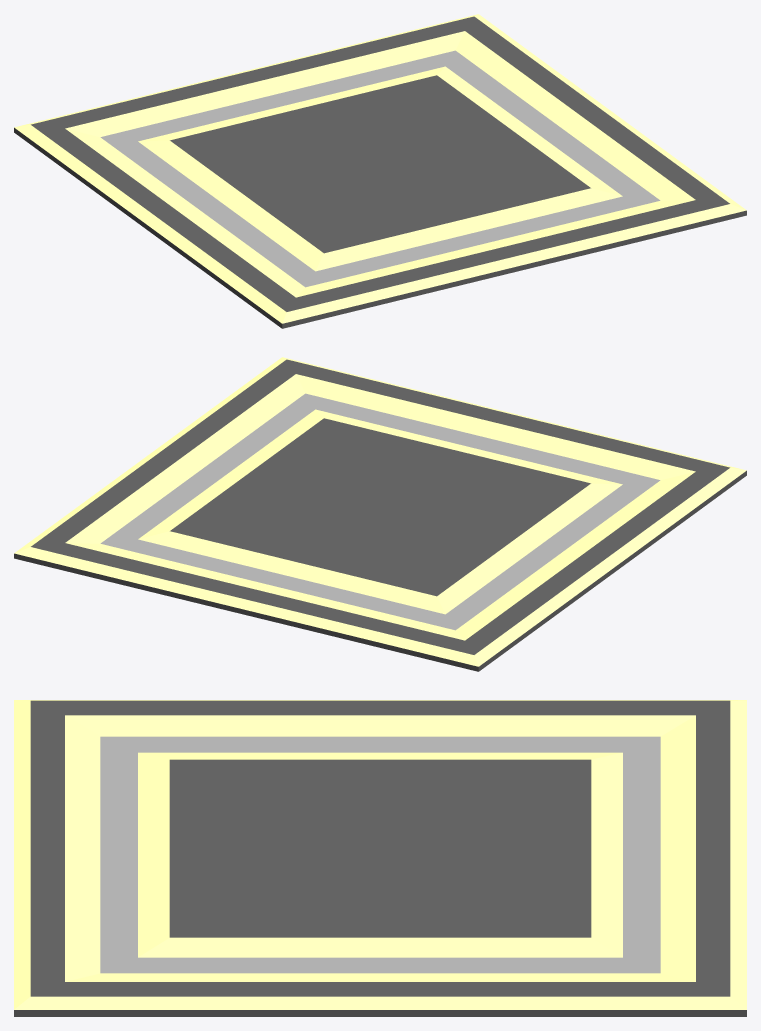
Rendered from floorsquarelight.fbx.
3 renders of one model, top to bottom at view 1: azimuth 30°, elevation 25°; view 2: azimuth 150°, elevation 25°; view 3: azimuth 270°, elevation 25°, orthographic. The views are drawn at different scales.
Parts seen in each view (by area): view 1: Cube.006; view 2: Cube.006; view 3: Cube.006.
Part boxes in pixels (x1=…): Cube.006: x1=14, y1=14, x2=746, y2=328; Cube.006: x1=14, y1=357, x2=746, y2=671; Cube.006: x1=14, y1=700, x2=746, y2=1016.
Size of the model in its own units: 2 by 0.04 by 2.
